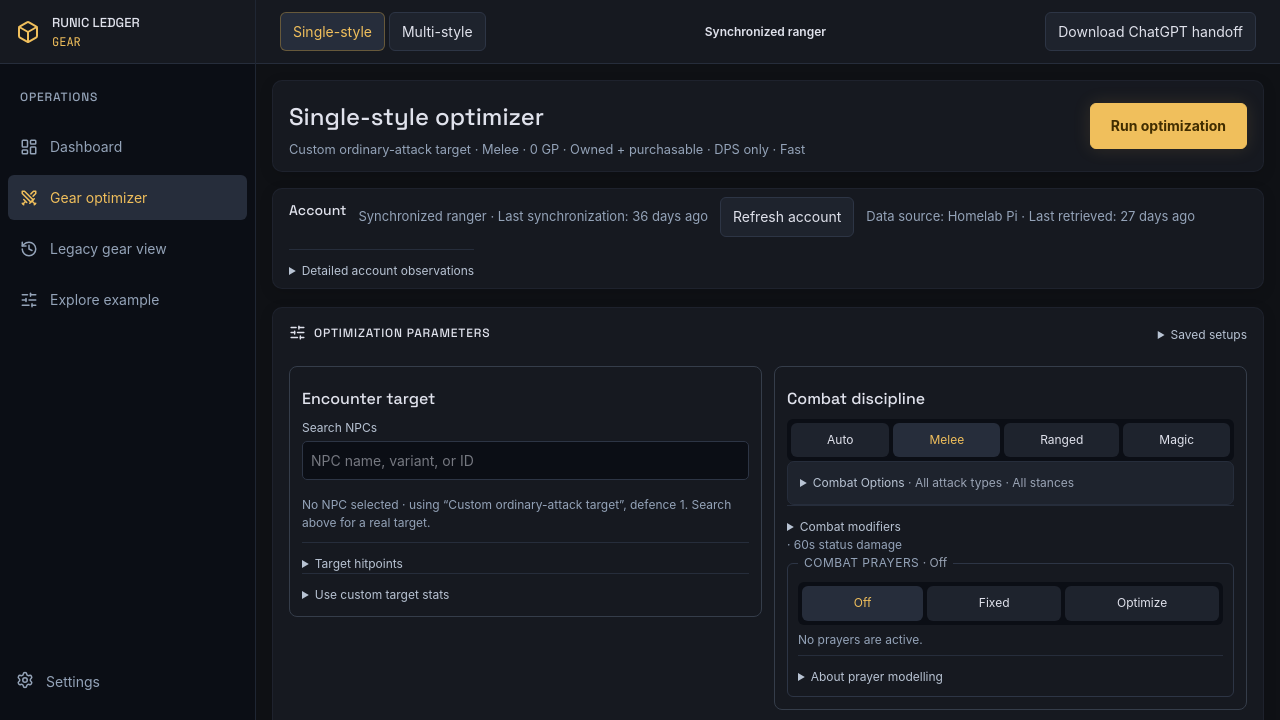
Test: displays the Pi retrieval time and retains account data after a failed refresh
Expected: the text "Data source: Homelab Pi" is shown, [866,207,1195,226]
Expected: the text titled "2026-10-31T12:00:00+00:00" is shown, [1120,208,1195,224]
Click the button "Refresh account" at (787, 217), box [720,197,854,236]
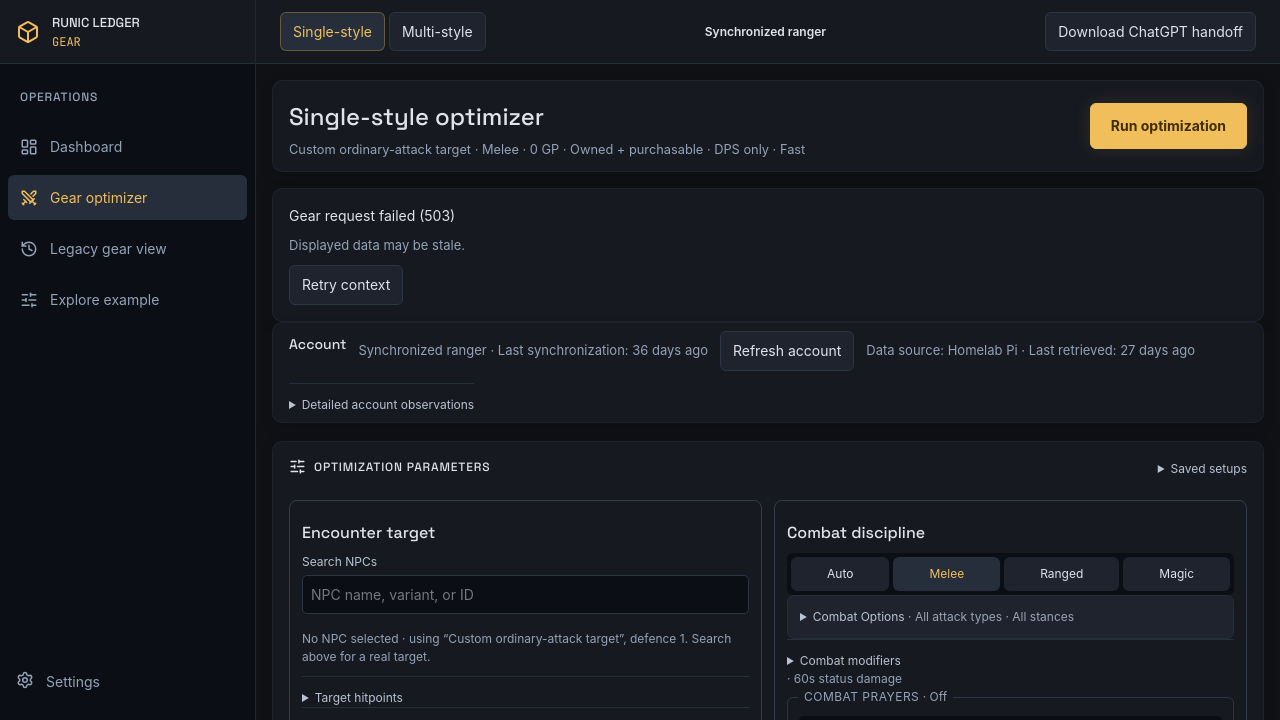
Expected: the button "Run optimization" is enabled, [1090,103,1247,149]
Result: the text "Displayed data may be stale." is shown at [289,237,465,253]
